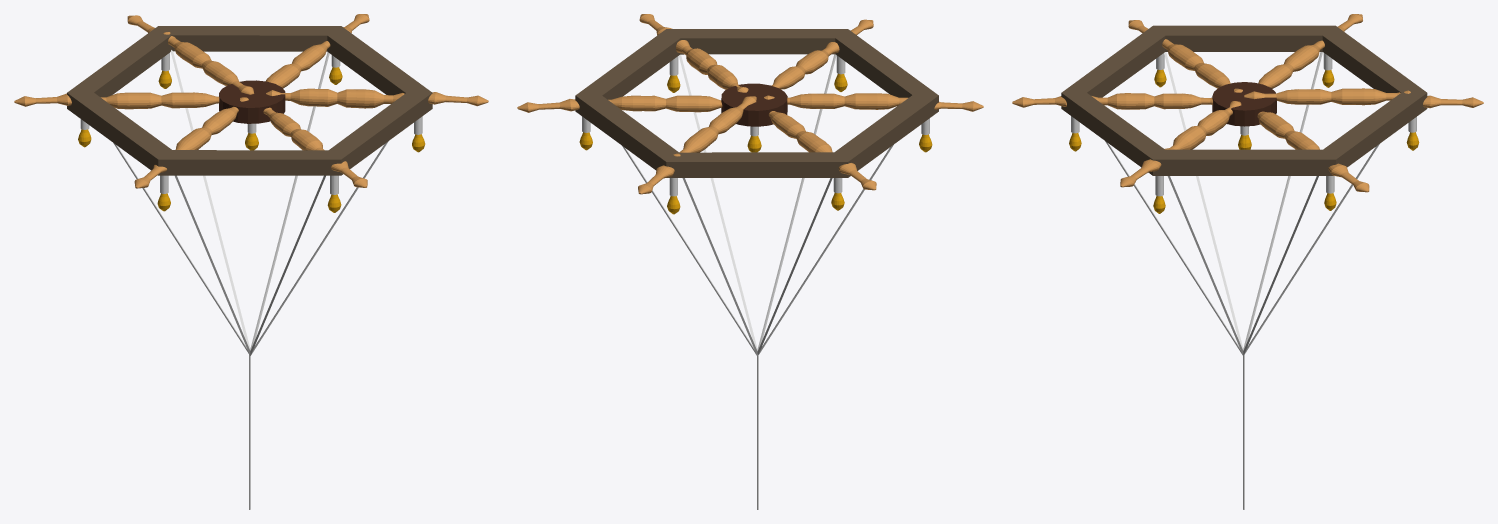
The model's file is luminaire.fbx.
3 renders of one model, left to right at view 1: azimuth 30°, elevation 25°; view 2: azimuth 150°, elevation 25°; view 3: azimuth 270°, elevation 25°, orthographic.
Parts seen in each view (by area): view 1: Cylinder, Cylinder.002, Cone, Cylinder.004, Cylinder.001; view 2: Cylinder, Cylinder.002, Cone, Cylinder.004, Cylinder.001; view 3: Cylinder, Cylinder.002, Cone, Cylinder.004, Cylinder.001.
Part boxes in pixels (x1,y1,x2,y2): Cylinder: (67,26,432,175); Cylinder.002: (101,32,404,150); Cone: (113,50,388,355); Cylinder.004: (14,14,488,188); Cylinder.001: (219,80,285,123); Cylinder: (575,29,938,177); Cylinder.002: (608,40,907,156); Cone: (622,54,893,355); Cylinder.004: (517,14,983,194); Cylinder.001: (721,83,787,126); Cylinder: (1061,25,1427,175); Cylinder.002: (1092,39,1410,149); Cone: (1105,52,1379,356); Cylinder.004: (1012,14,1483,192); Cylinder.001: (1212,82,1276,126).
Size of the model in its own units: 255 by 286 by 291.
